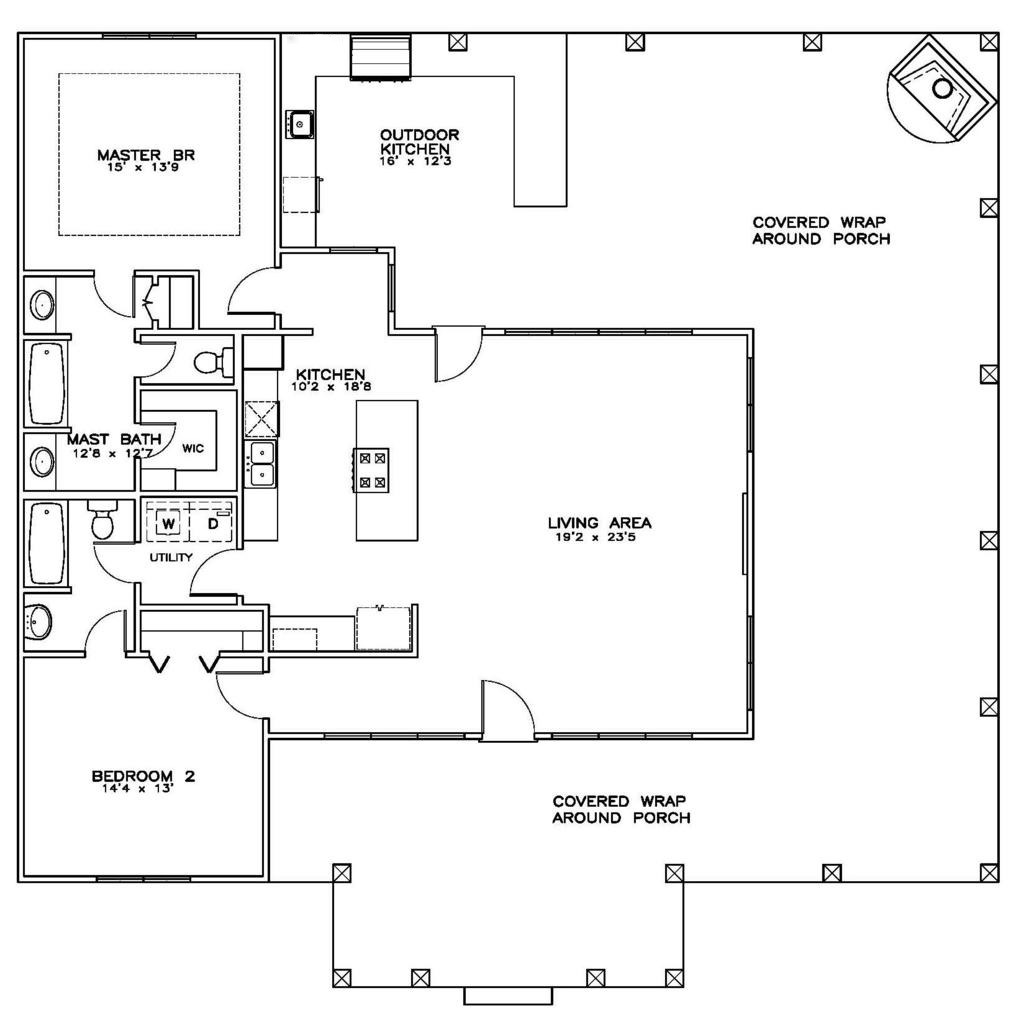door: (473, 679, 534, 743), (184, 546, 251, 597), (211, 669, 273, 721), (434, 326, 486, 382), (223, 265, 278, 316), (80, 604, 131, 657), (87, 269, 134, 324), (131, 340, 180, 385), (87, 540, 137, 583), (133, 418, 178, 458)
kitchen_bar: (351, 396, 422, 551)
large_sink: (189, 340, 239, 382), (83, 494, 122, 540)
small_sink: (25, 433, 59, 490), (20, 599, 59, 647), (26, 276, 58, 333)
tub: (25, 496, 72, 593), (28, 335, 72, 432)
twin_sink: (242, 438, 278, 496)
window: (501, 322, 694, 338), (101, 30, 191, 44), (95, 871, 200, 883)
